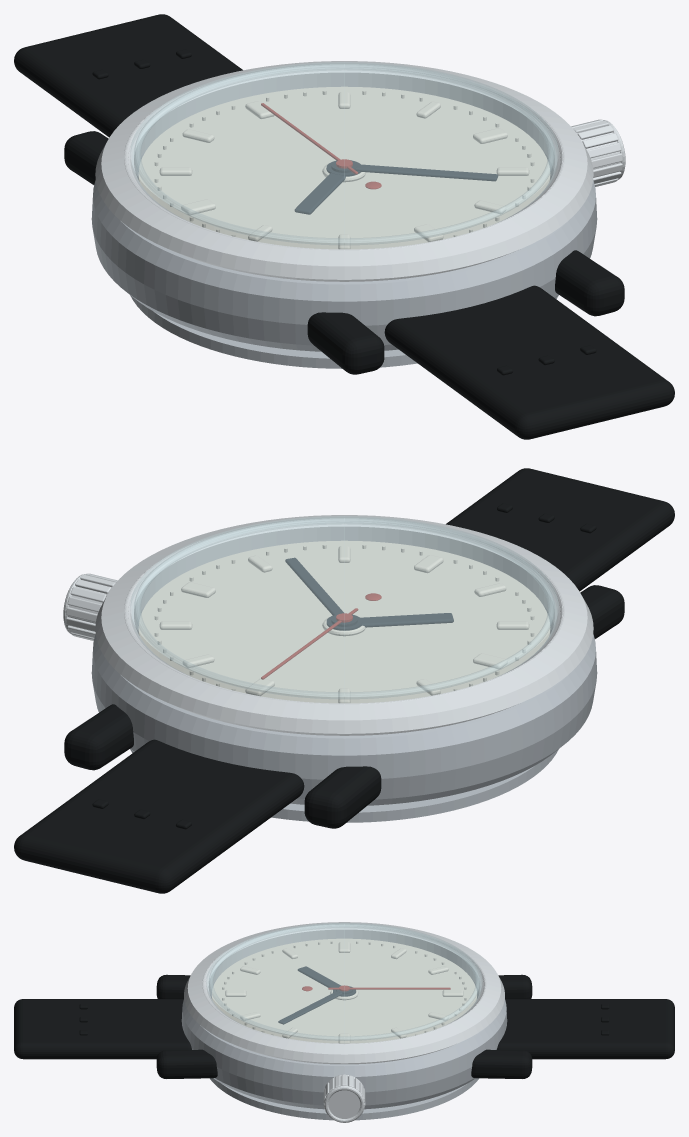
File: mechanical_watch.glb
3 views of the same model, one above another, from view 1: azimuth 30°, elevation 25°; view 2: azimuth 150°, elevation 25°; view 3: azimuth 270°, elevation 25° (orthographic). The views are drawn at different scales.
Visible parts, largest first — view 1: crystal, dial, strap_lugs, bezel, case, caseback, crown, minute_hand, hour_hand, seconds_hand; view 2: crystal, dial, strap_lugs, bezel, case, caseback, crown, hour_hand, minute_hand, seconds_hand; view 3: crystal, strap_lugs, dial, bezel, case, caseback, crown, minute_hand, seconds_hand, hour_hand.
Part boxes in pixels (x1=…): crystal: x1=130, y1=62, x2=558, y2=249; dial: x1=138, y1=86, x2=550, y2=249; strap_lugs: x1=14, y1=14, x2=674, y2=439; bezel: x1=95, y1=61, x2=593, y2=281; case: x1=91, y1=151, x2=597, y2=351; caseback: x1=130, y1=295, x2=558, y2=368; crown: x1=571, y1=119, x2=625, y2=186; minute_hand: x1=331, y1=160, x2=497, y2=181; hour_hand: x1=294, y1=161, x2=360, y2=214; seconds_hand: x1=261, y1=103, x2=381, y2=189; crystal: x1=130, y1=516, x2=558, y2=703; dial: x1=138, y1=540, x2=550, y2=703; strap_lugs: x1=14, y1=468, x2=674, y2=893; bezel: x1=95, y1=515, x2=593, y2=735; case: x1=91, y1=605, x2=597, y2=805; caseback: x1=130, y1=749, x2=558, y2=822; crown: x1=63, y1=573, x2=117, y2=640; hour_hand: x1=326, y1=613, x2=453, y2=630; minute_hand: x1=285, y1=557, x2=357, y2=626; seconds_hand: x1=261, y1=593, x2=381, y2=679; crystal: x1=206, y1=922, x2=482, y2=1043; strap_lugs: x1=14, y1=974, x2=674, y2=1078; dial: x1=212, y1=938, x2=476, y2=1043; bezel: x1=184, y1=922, x2=504, y2=1064; case: x1=181, y1=981, x2=507, y2=1109; caseback: x1=210, y1=1078, x2=478, y2=1120; crown: x1=323, y1=1074, x2=365, y2=1122; minute_hand: x1=278, y1=986, x2=352, y2=1024; seconds_hand: x1=302, y1=985, x2=450, y2=991; hour_hand: x1=298, y1=966, x2=355, y2=996.
Bounding box in the file's own units: 2.33 × 0.588 × 4.26.
